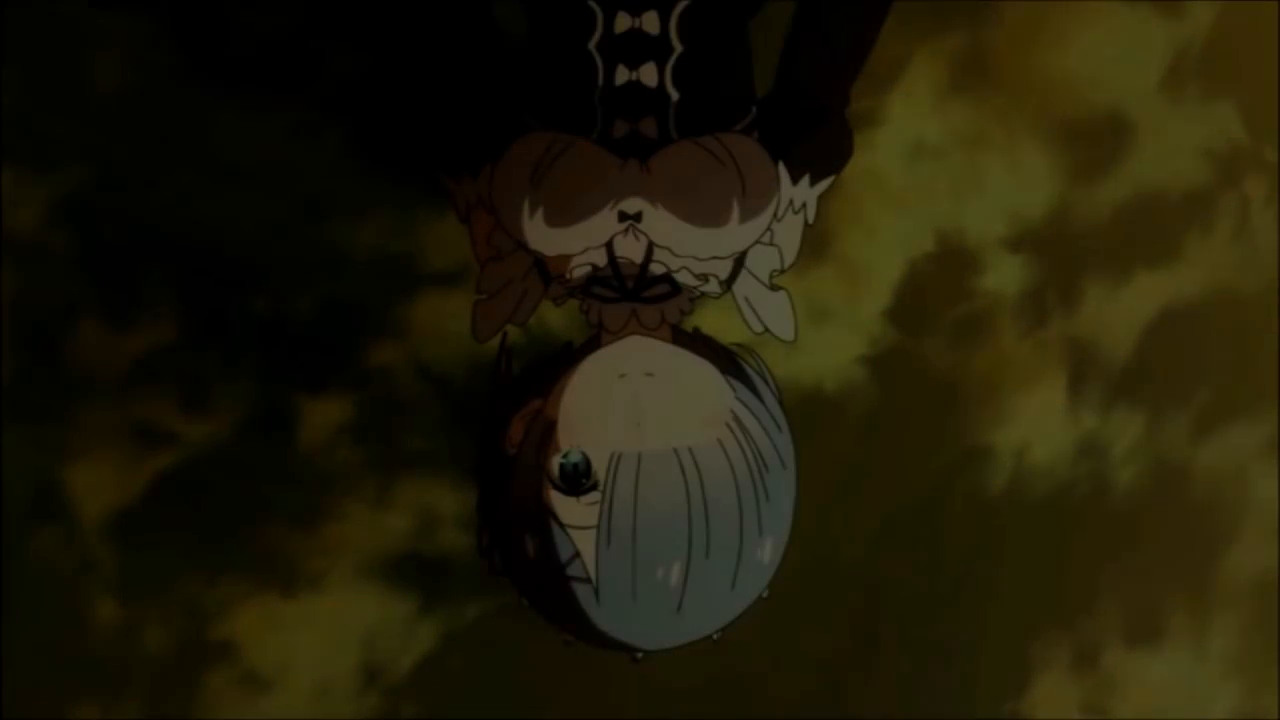REM: (499, 328, 807, 654)
